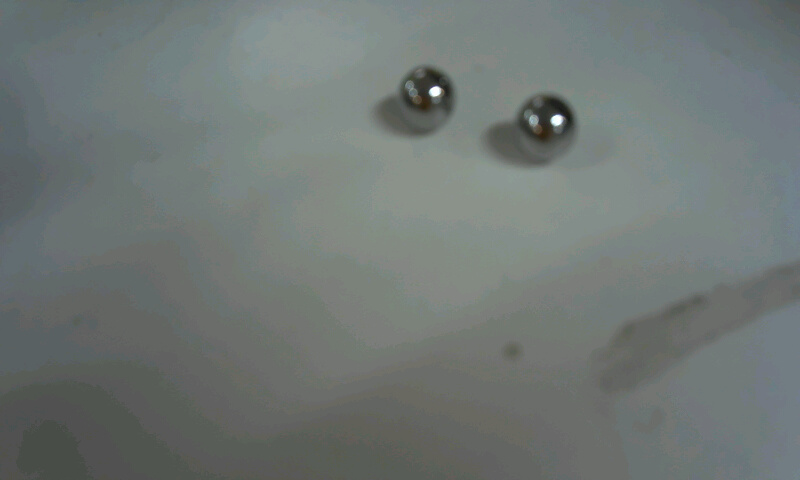steelball: (508, 79, 589, 178), (391, 53, 471, 144)
